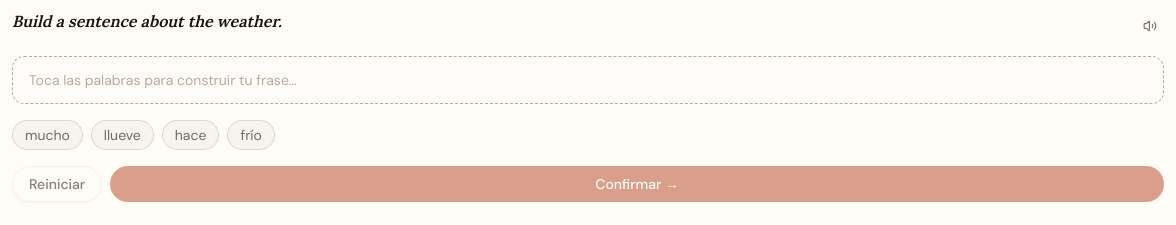
Test case: SentenceBuilder › selected chips have "Remover palabra" aria-labels
Click a word to move it to selected area
Click the button with aria-label "Agregar palabra hace" at (191, 135), box [162,120,219,150]
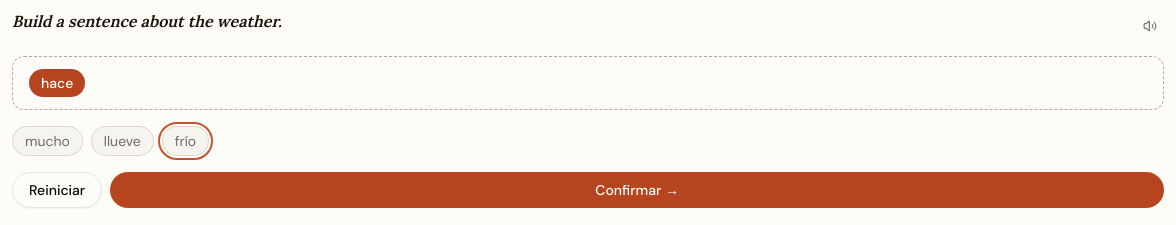
Expected: the button with aria-label "Remover palabra hace" is shown, [29,69,85,97]
